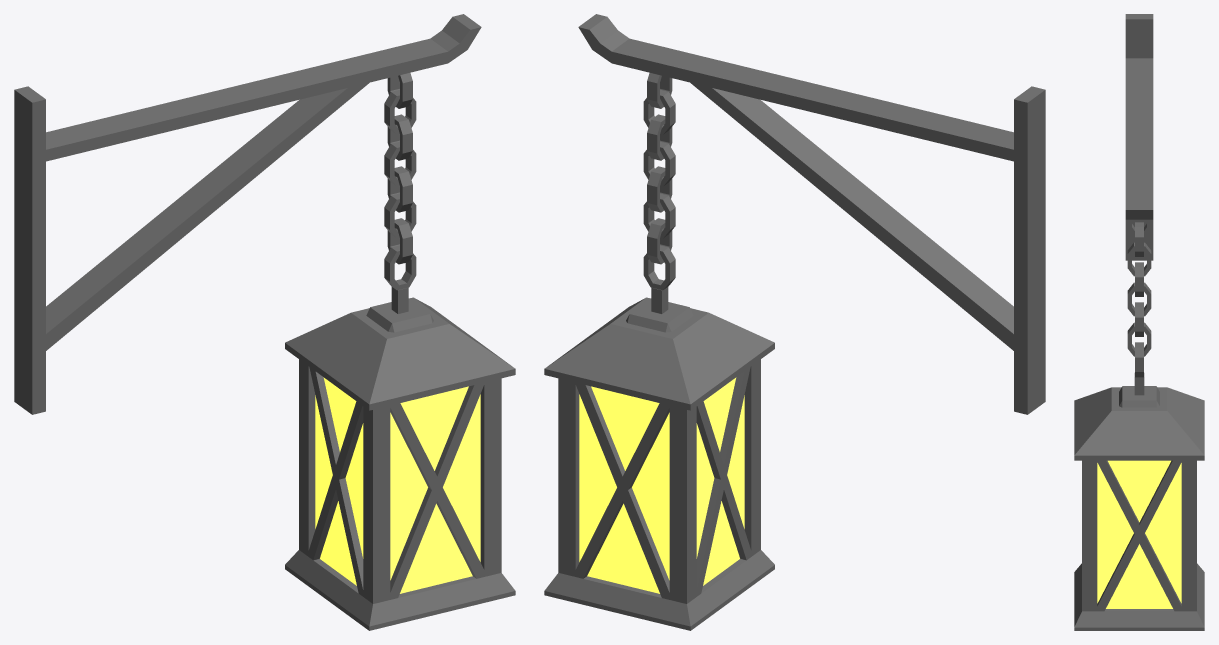
Rendered from Lamp2.fbx.
3 views of the same model, side by side, from view 1: azimuth 30°, elevation 25°; view 2: azimuth 150°, elevation 25°; view 3: azimuth 270°, elevation 25° (orthographic). The views are drawn at different scales.
Parts seen in each view (by area): view 1: Lamp2; view 2: Lamp2; view 3: Lamp2.
Part boxes in pixels (bbox=[...]): Lamp2: bbox=[14, 14, 515, 630]; Lamp2: bbox=[544, 14, 1045, 630]; Lamp2: bbox=[1074, 14, 1204, 630].
Bounding box in the file's own units: 60.8 × 74.62 × 19.76.
